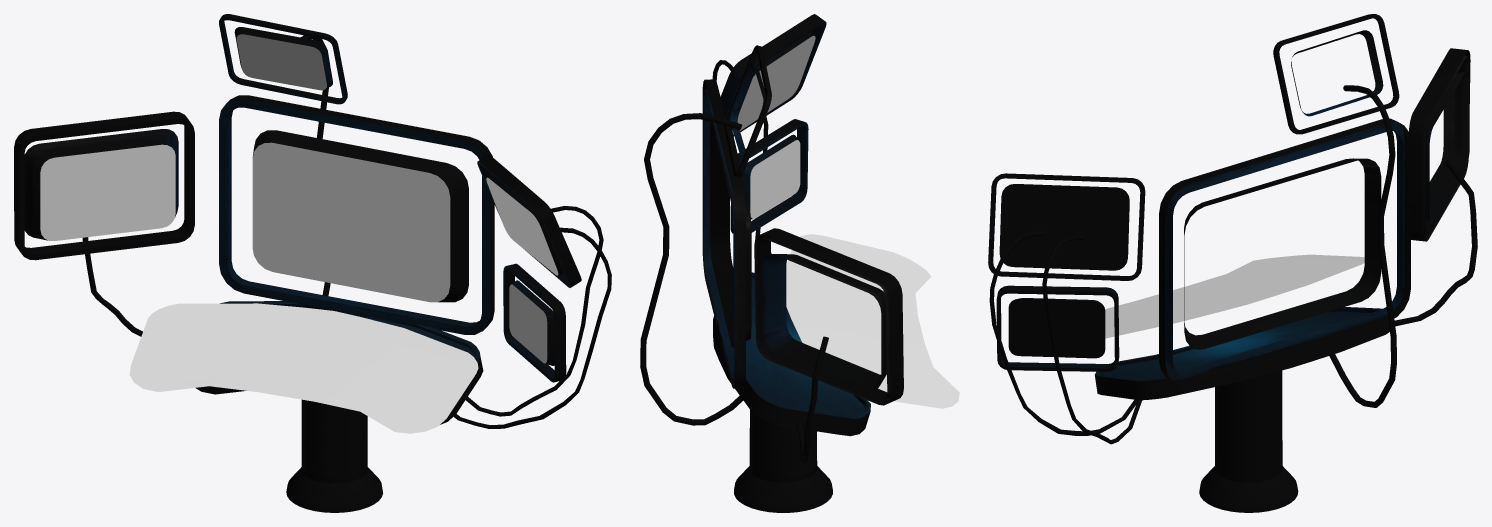
Rendered from SCREENS.glb.
3 renders of one model, left to right at view 1: azimuth 30°, elevation 25°; view 2: azimuth 150°, elevation 25°; view 3: azimuth 270°, elevation 25°, orthographic. The views are drawn at different scales.
Visible parts, largest first — view 1: PLATFORM_STRUCTURE, PLATFORM_SCREENS, PLATFORM_UI; view 2: PLATFORM_STRUCTURE, PLATFORM_UI, PLATFORM_SCREENS; view 3: PLATFORM_STRUCTURE, PLATFORM_UI.
Part boxes in pixels (x1,y1,x2,y2): PLATFORM_STRUCTURE: [14, 14, 611, 512]; PLATFORM_SCREENS: [40, 34, 558, 363]; PLATFORM_UI: [129, 303, 478, 433]; PLATFORM_STRUCTURE: [640, 14, 903, 512]; PLATFORM_UI: [786, 234, 959, 408]; PLATFORM_SCREENS: [732, 36, 815, 218]; PLATFORM_STRUCTURE: [988, 14, 1477, 512]; PLATFORM_UI: [1105, 254, 1364, 338].
Bounding box in the file's own units: 4.06 × 4.48 × 4.37.
Materials: 1 (1 with a texture image).
